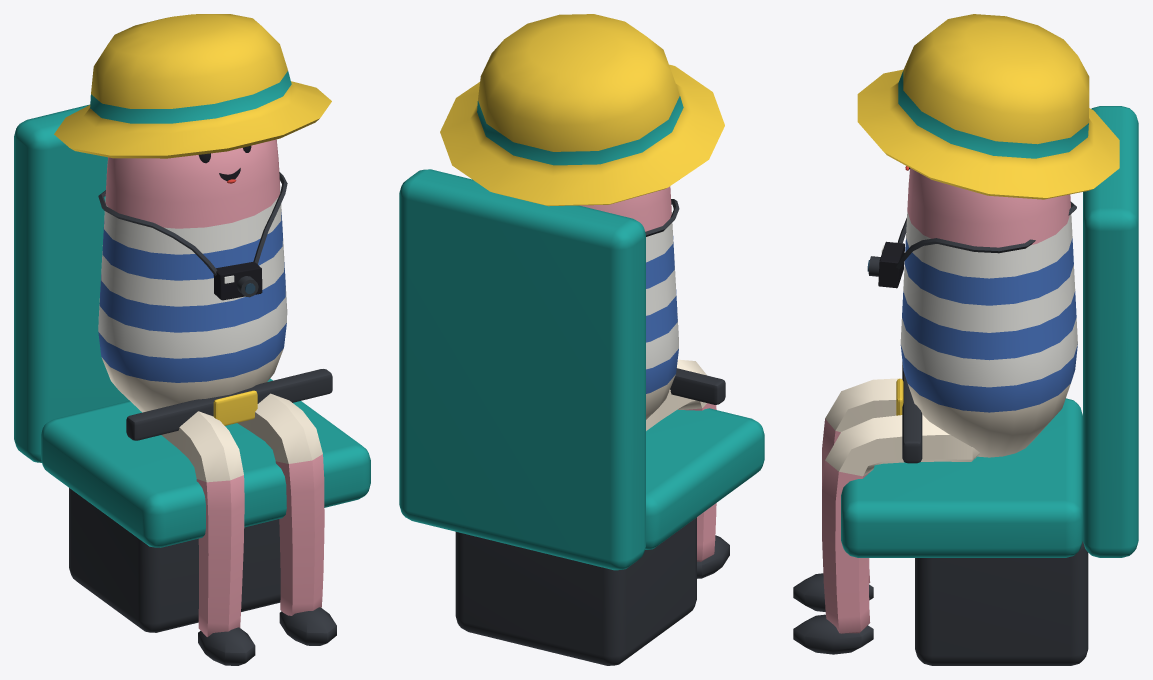
The model's file is RotAsientoSaludo.fbx.
The picture shows the model from 3 angles, left to right: view 1: azimuth 30°, elevation 25°; view 2: azimuth 150°, elevation 25°; view 3: azimuth 270°, elevation 25°; orthographic projection. The views are drawn at different scales.
Visible parts, largest first — view 1: RotAsientoSaludo; view 2: RotAsientoSaludo; view 3: RotAsientoSaludo.
Part boxes in pixels (x1=…): RotAsientoSaludo: x1=14, y1=14, x2=370, y2=665; RotAsientoSaludo: x1=399, y1=14, x2=764, y2=665; RotAsientoSaludo: x1=793, y1=14, x2=1138, y2=665.
Size of the model in its own units: 2.4 by 5.29 by 2.79.
1 material, 1 textured.
